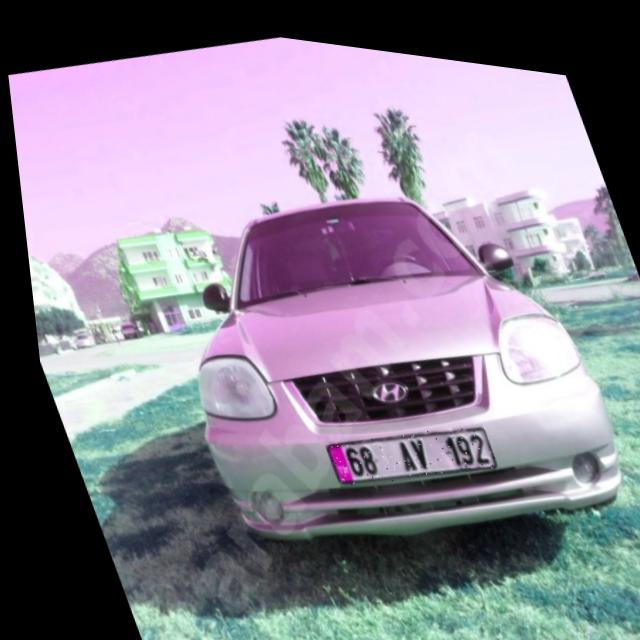license_plate: (311, 393, 492, 498)
